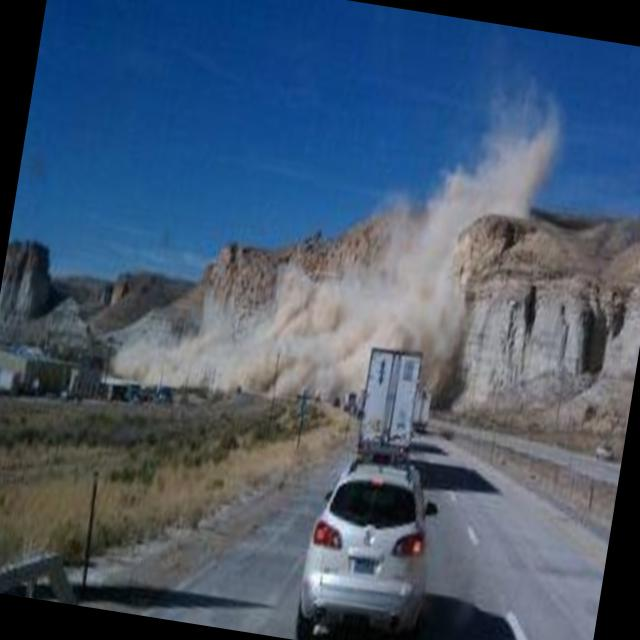car: (293, 451, 448, 640)
